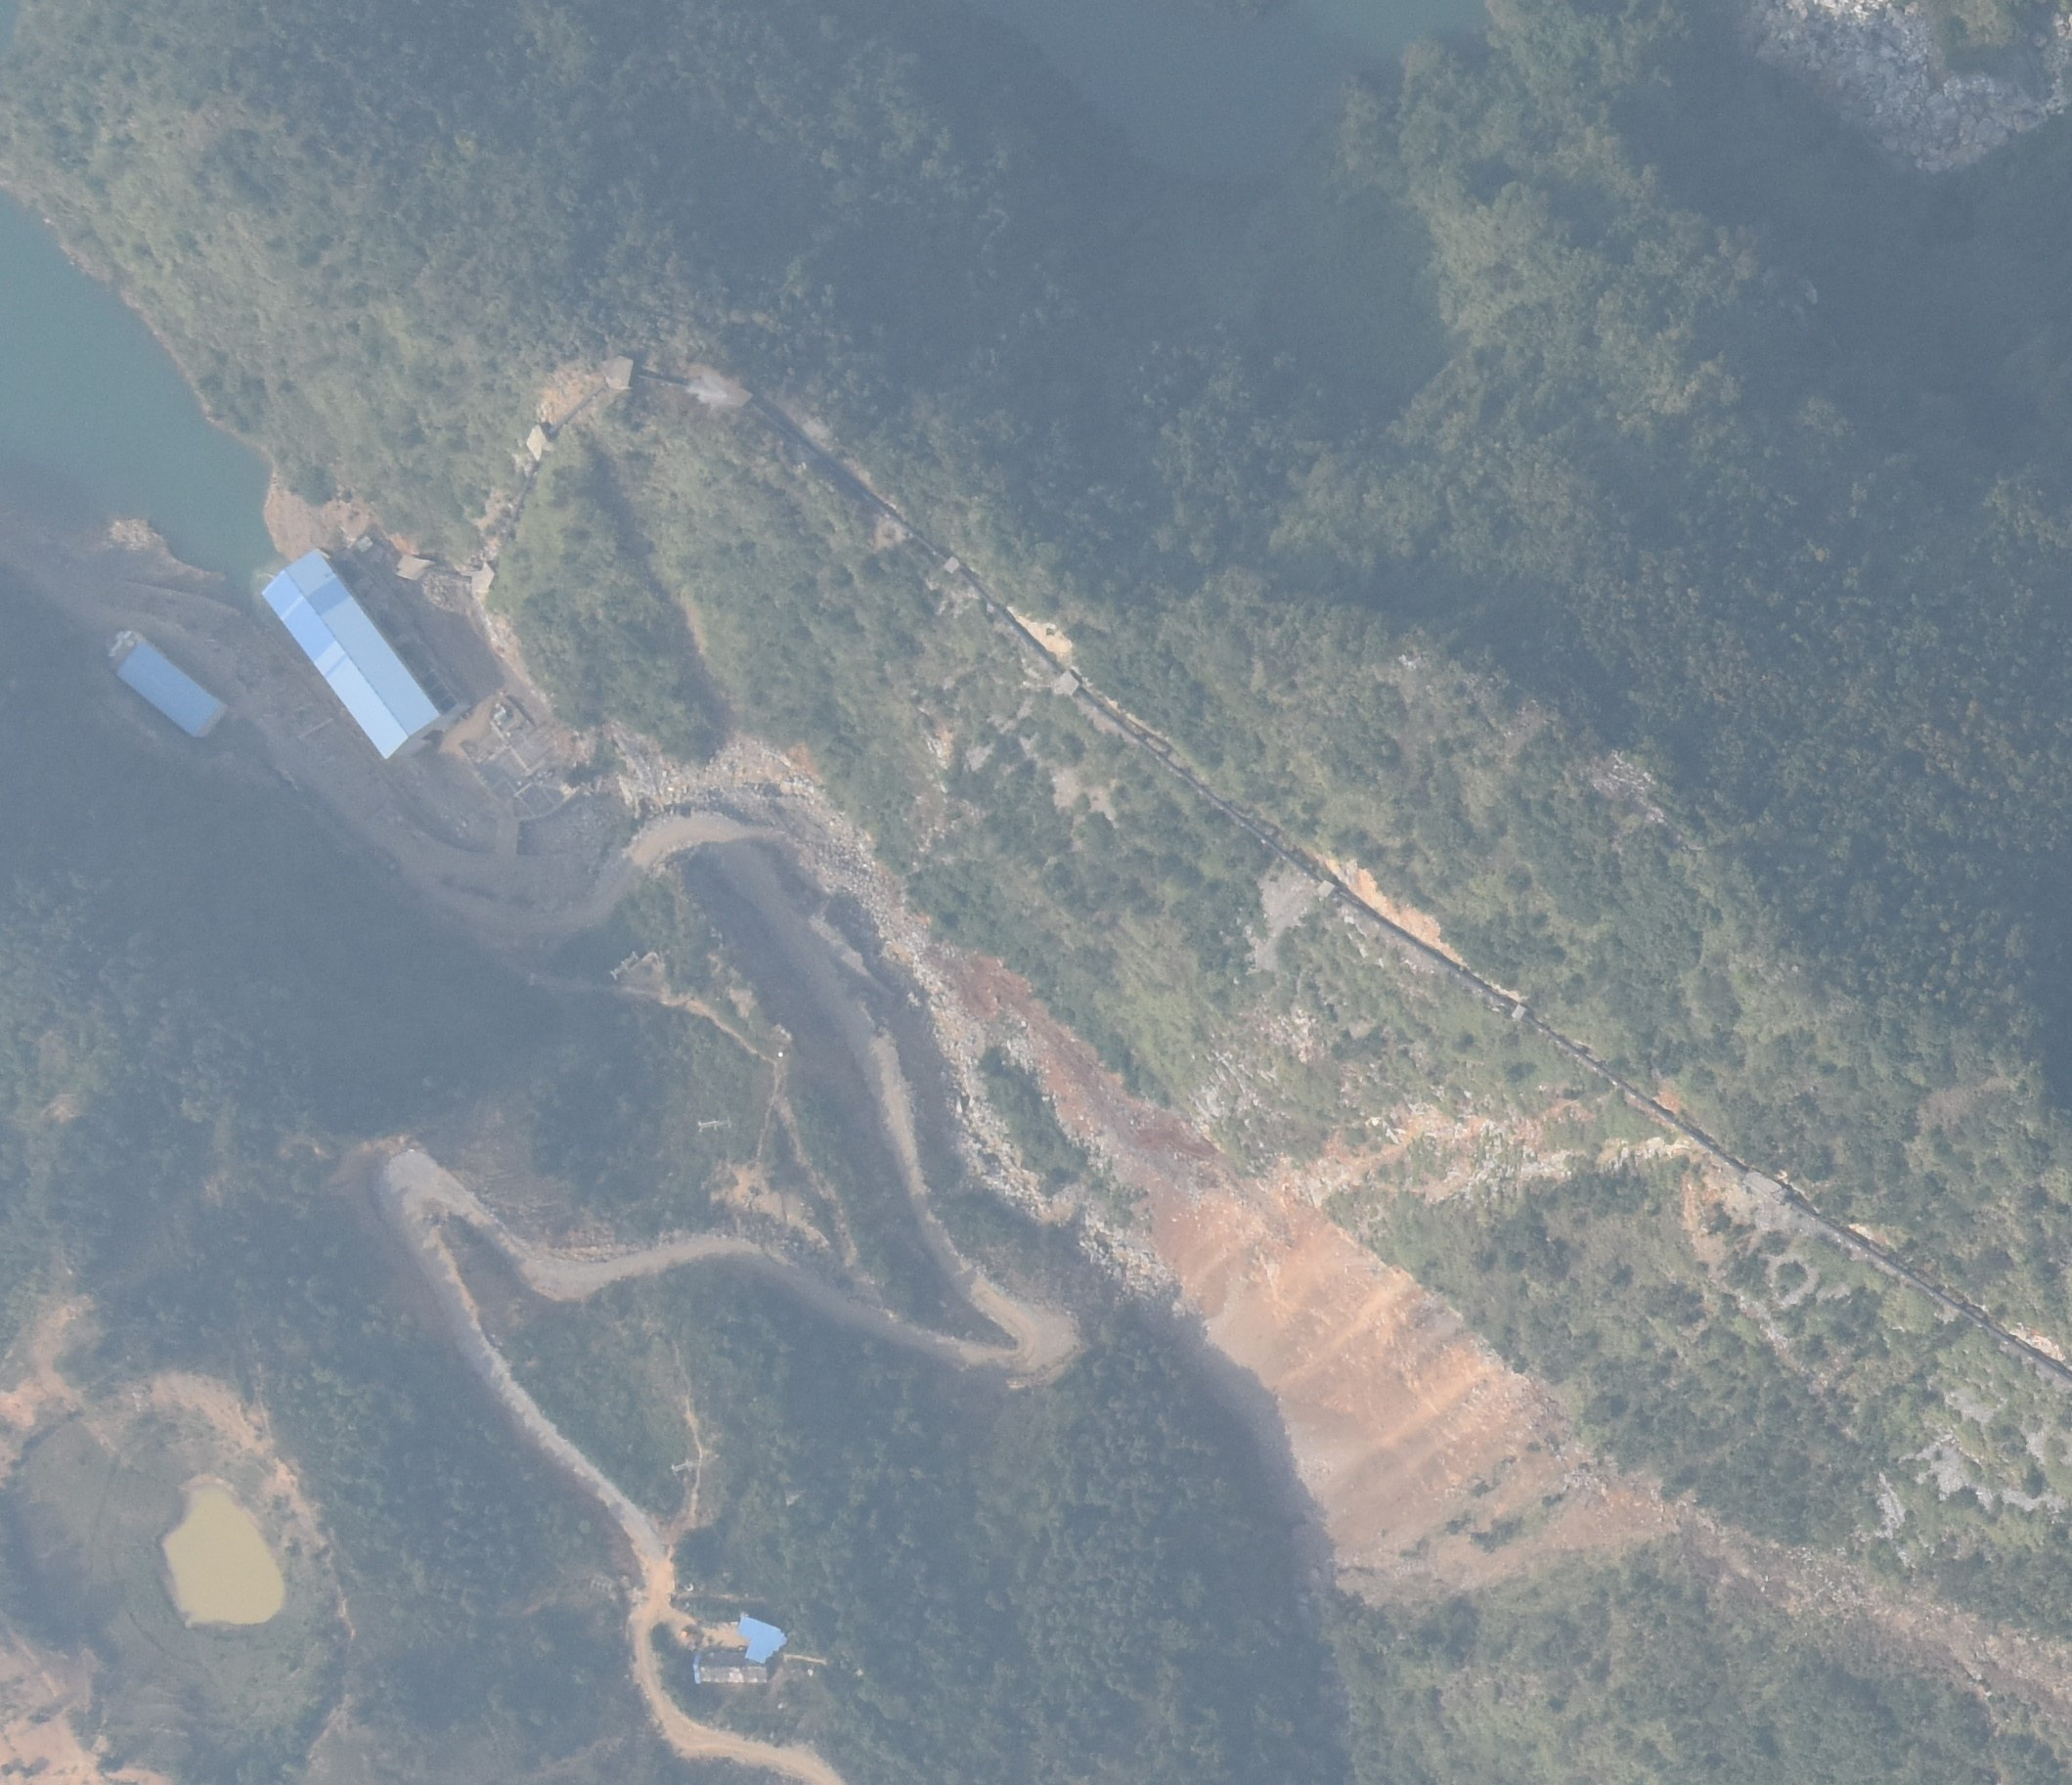cable-tower: (609, 950, 638, 980), (696, 1119, 729, 1133)
pool: (159, 1473, 287, 1628)
prefabricated-house: (262, 547, 442, 761), (119, 642, 226, 738), (736, 1615, 786, 1664)
